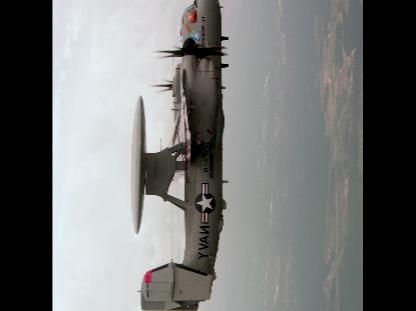C5: (130, 0, 229, 310)
